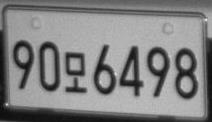0: (37, 40, 61, 92)
4: (117, 45, 144, 97)
6: (92, 44, 117, 95)
8: (173, 46, 199, 99)
9: (146, 45, 171, 97), (11, 38, 35, 90)
모: (64, 50, 88, 93)
